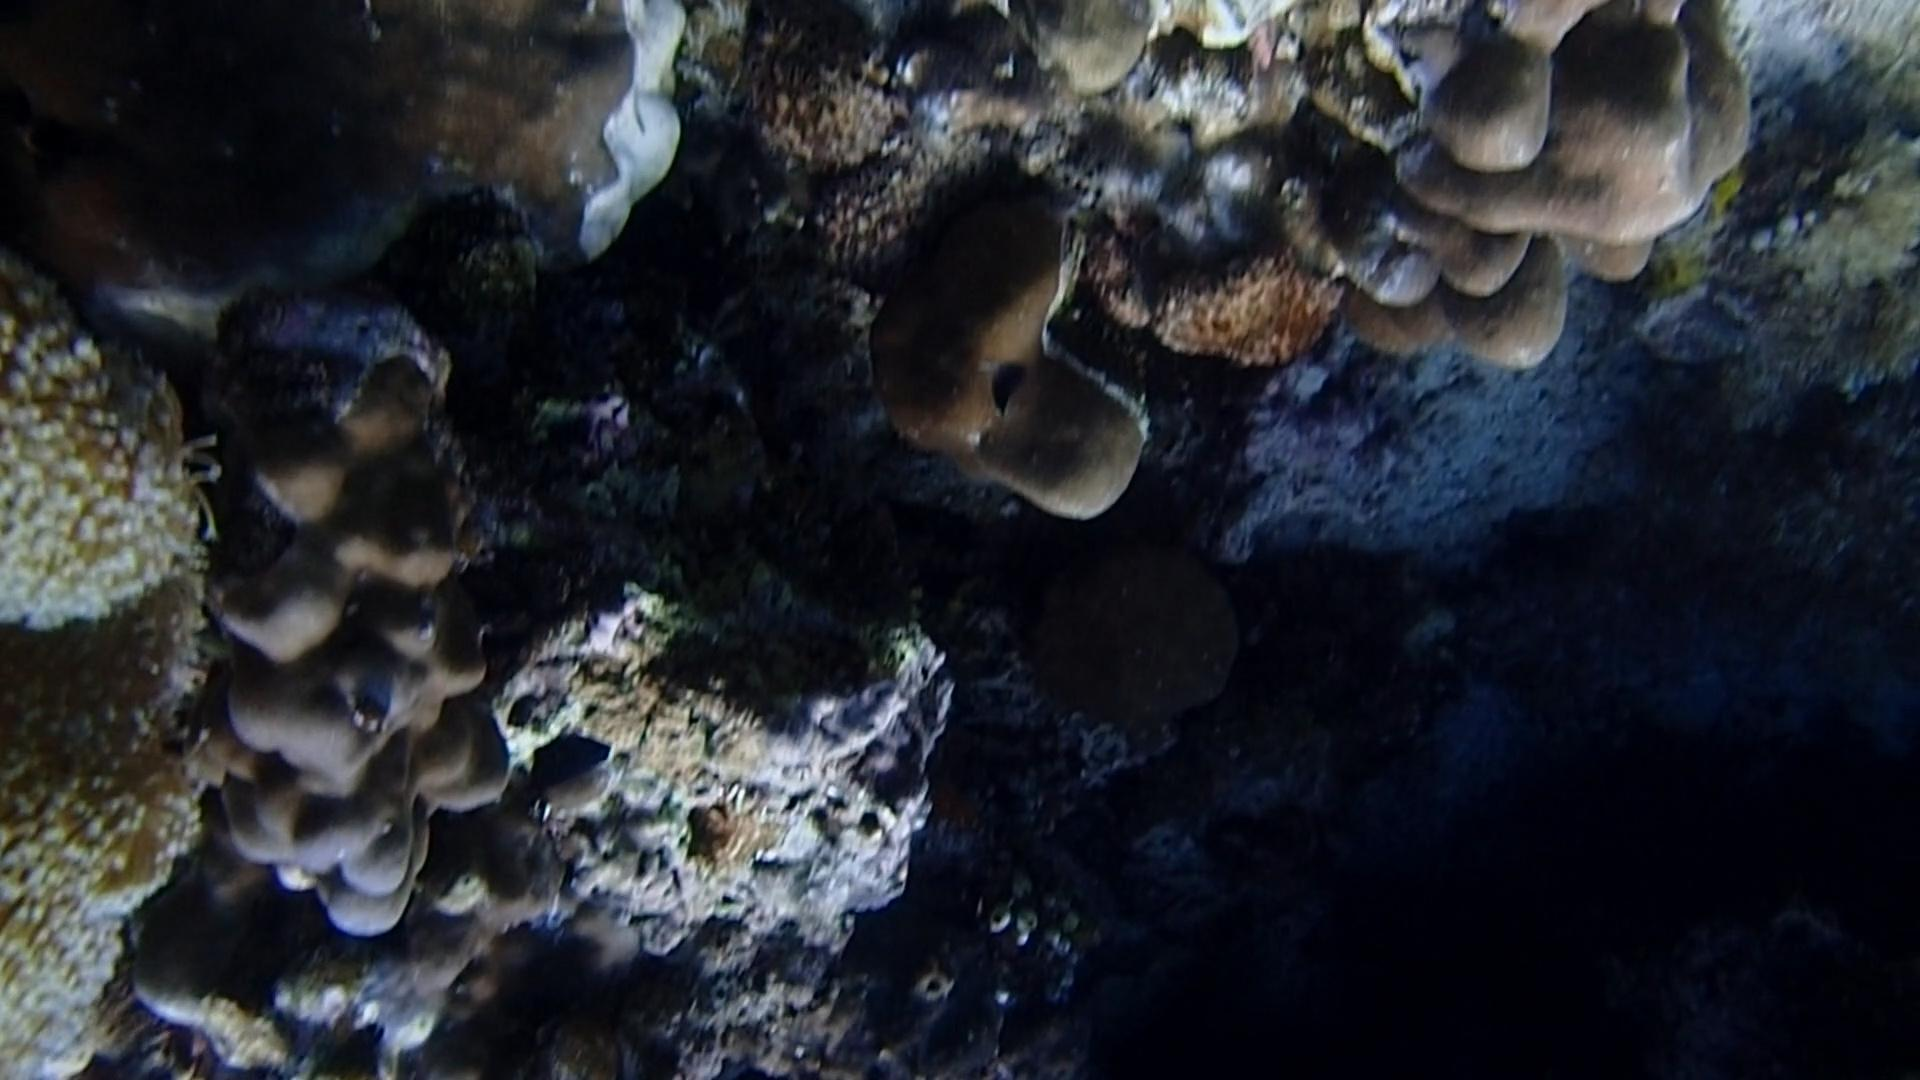Dark Fish: (514, 723, 617, 795)
Yellow Tail: (978, 347, 1048, 419)
